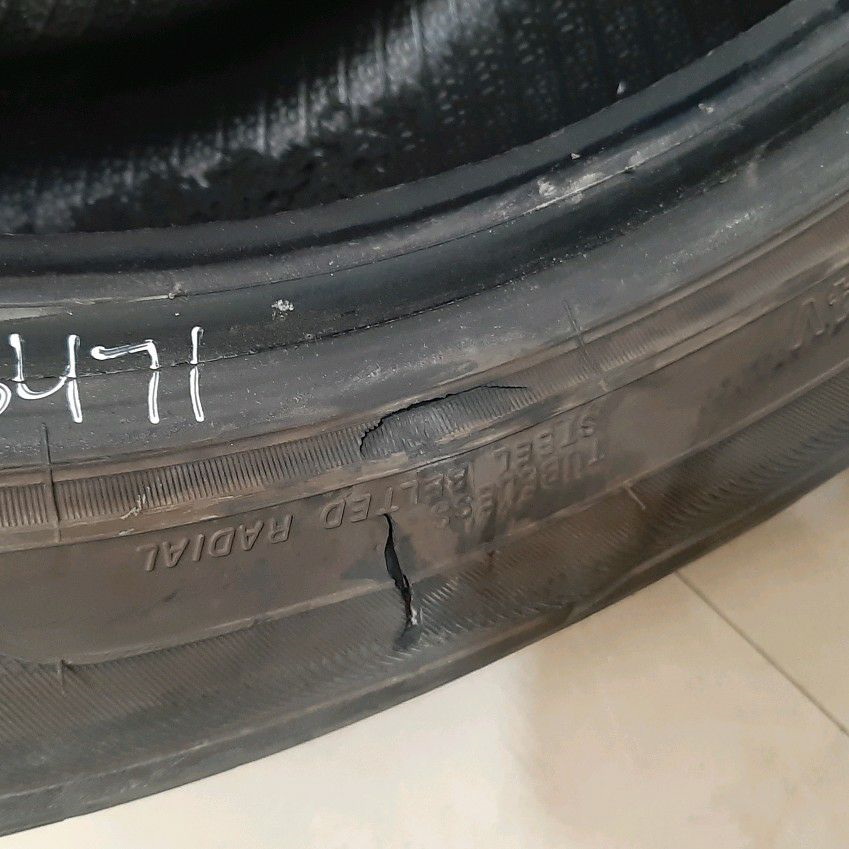cut: (348, 380, 534, 462), (381, 508, 417, 648)
